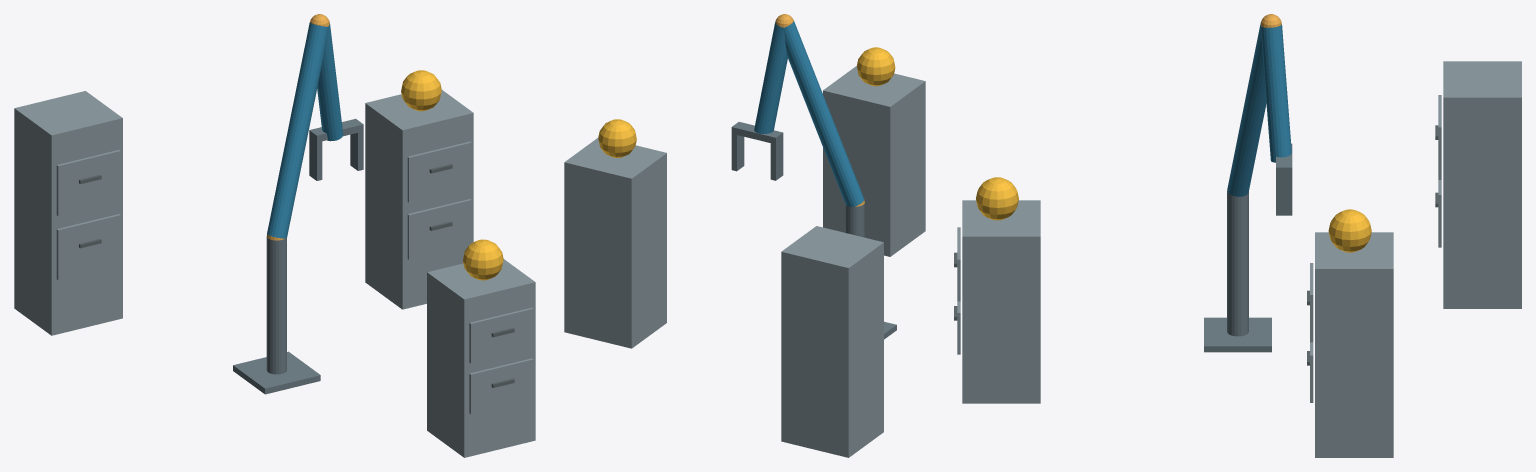
The picture shows the model from 3 angles, left to right: view 1: azimuth 30°, elevation 25°; view 2: azimuth 150°, elevation 25°; view 3: azimuth 270°, elevation 25°; orthographic projection. The views are drawn at different scales.
Visible parts, largest first — view 1: cabinet_3 body, cabinet_1 body, cabinet_2 body, moving link 1, cabinet_3 drawer front, cabinet_3 drawer front.001, cabinet_2 drawer front.001, cabinet_2 drawer front, fixed post, cabinet_1 drawer front, cabinet_1 drawer front.001, pedestal (+4 smaller); view 2: cabinet_3 body, cabinet_2 body, cabinet_1 body, moving link 1, moving link 2, released ball_1, ball ball_2, gripper bridge, fixed post, gripper finger -1, gripper finger 1; view 3: cabinet_3 body, cabinet_2 body, cabinet_1 body, fixed post, moving link 1, moving link 2, pedestal, ball ball_2, released ball_1, gripper finger 1.
Part boxes in pixels (x1,y1,x2,y2): cabinet_3 body: (14, 91, 122, 335); cabinet_1 body: (427, 259, 535, 457); cabinet_2 body: (365, 90, 473, 309); moving link 1: (267, 22, 327, 238); cabinet_3 drawer front: (56, 214, 120, 280); cabinet_3 drawer front.001: (56, 150, 120, 216); cabinet_2 drawer front.001: (407, 141, 471, 202); cabinet_2 drawer front: (407, 199, 471, 259); fixed post: (266, 237, 286, 374); cabinet_1 drawer front: (469, 358, 533, 413); cabinet_1 drawer front.001: (469, 307, 533, 363); pedestal: (233, 351, 320, 394); cabinet_3 body: (781, 226, 883, 457); cabinet_2 body: (564, 138, 666, 348); cabinet_1 body: (823, 66, 925, 256); moving link 1: (784, 20, 864, 207); moving link 2: (754, 22, 787, 133); released ball_1: (857, 47, 895, 86); ball ball_2: (598, 119, 636, 157); gripper bridge: (731, 122, 783, 144); fixed post: (845, 203, 864, 237); gripper finger -1: (770, 139, 783, 180); gripper finger 1: (731, 134, 744, 171); cabinet_3 body: (1443, 61, 1521, 308); cabinet_2 body: (1315, 232, 1393, 457); cabinet_1 body: (962, 200, 1040, 403); fixed post: (1227, 191, 1248, 336); moving link 1: (1227, 22, 1266, 196); moving link 2: (1261, 24, 1291, 162); pedestal: (1204, 317, 1271, 352); ball ball_2: (1328, 209, 1371, 252); released ball_1: (976, 177, 1018, 220); gripper finger 1: (1276, 175, 1292, 215).
Bounding box in the file's own units: 1.62 × 1.44 × 2.1.
